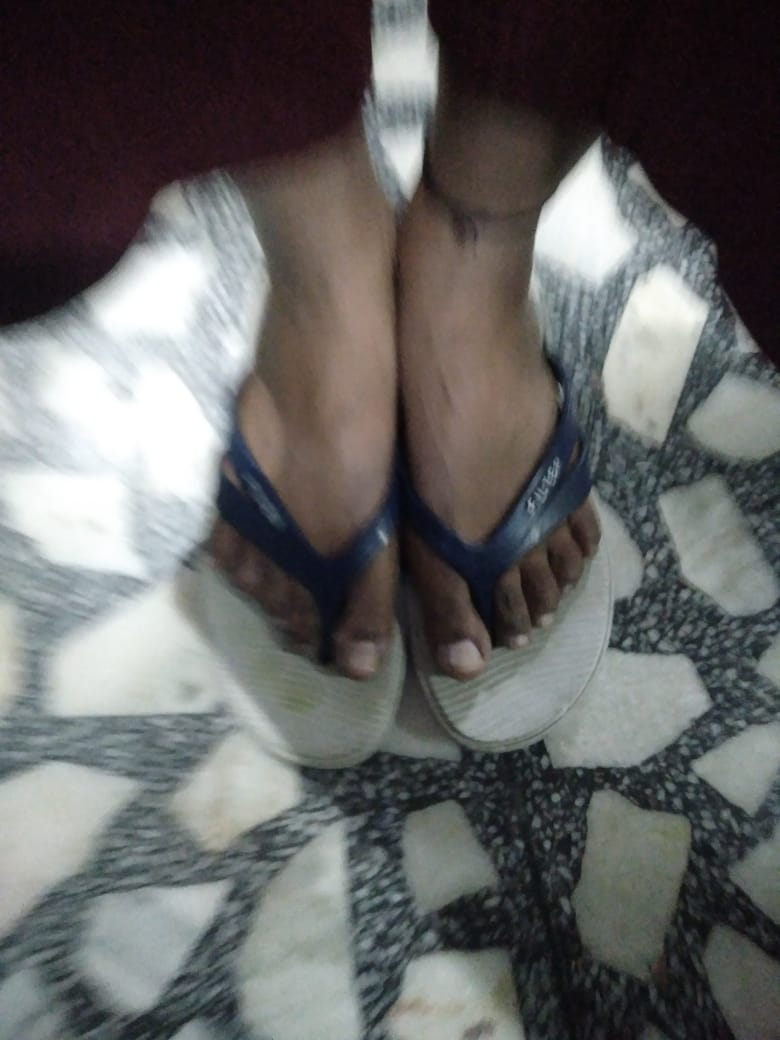Footwear: (192, 280, 627, 789)
